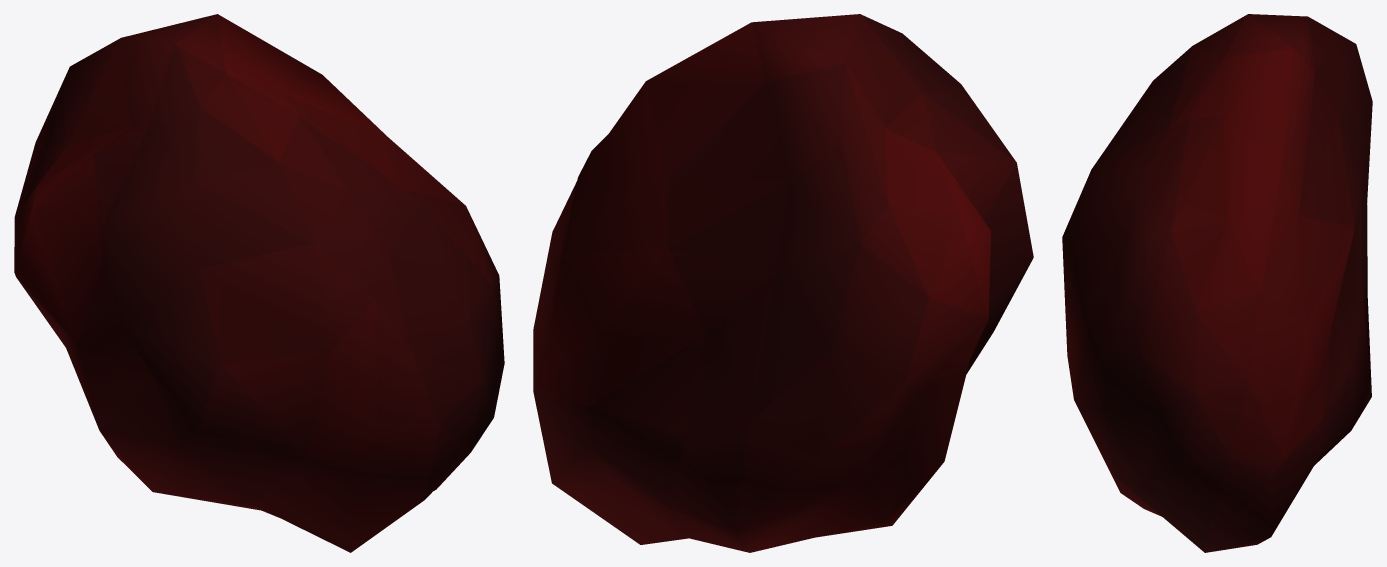
The model's file is geology-rocks-asteroidlarge_v2.fbx.
The picture shows the model from 3 angles, left to right: view 1: azimuth 30°, elevation 25°; view 2: azimuth 150°, elevation 25°; view 3: azimuth 270°, elevation 25°; orthographic projection. The views are drawn at different scales.
Parts seen in each view (by area): view 1: AsteroidLarge_v2; view 2: AsteroidLarge_v2; view 3: AsteroidLarge_v2.
Part boxes in pixels (box(x1,y1,x2,y2)): AsteroidLarge_v2: box(14, 14, 504, 552); AsteroidLarge_v2: box(533, 14, 1033, 552); AsteroidLarge_v2: box(1062, 14, 1372, 552).
Bounding box in the file's own units: 1.09 × 1.21 × 0.7582.
